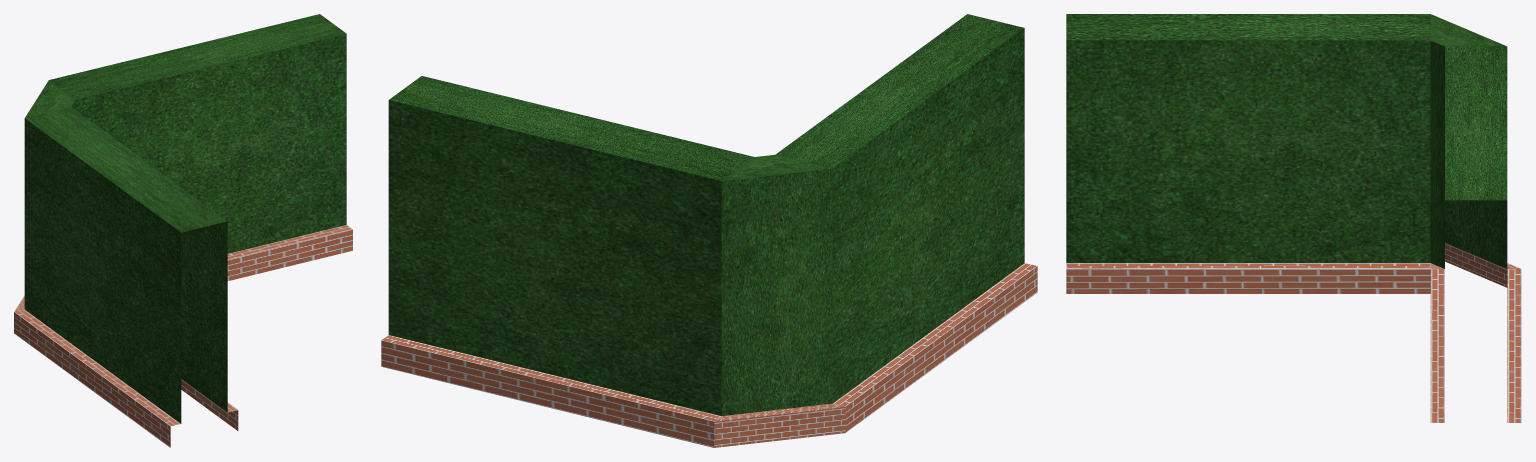
File: HedgemazeCornerFINAL.fbx
The picture shows the model from 3 angles, left to right: view 1: azimuth 30°, elevation 25°; view 2: azimuth 150°, elevation 25°; view 3: azimuth 270°, elevation 25°; orthographic projection. The views are drawn at different scales.
Visible parts, largest first — view 1: hedgemazestraight:hedgemazestraight:pCube1; view 2: hedgemazestraight:hedgemazestraight:pCube1; view 3: hedgemazestraight:hedgemazestraight:pCube1.
Part boxes in pixels (x1,y1,x2,y2): hedgemazestraight:hedgemazestraight:pCube1: (14, 14, 352, 447); hedgemazestraight:hedgemazestraight:pCube1: (381, 14, 1037, 447); hedgemazestraight:hedgemazestraight:pCube1: (1066, 14, 1521, 422).
Bounding box in the file's own units: 5 × 3 × 5.
